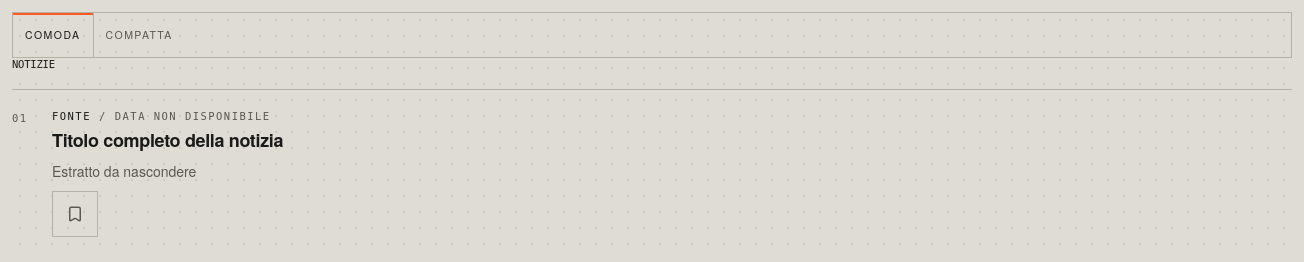
Test: applies compact mode to mounted feeds and retains full titles and save controls
Expected: the text "Estratto da nascondere" is shown, [52,161,196,181]
Click the button "Compatta".
click(139, 35)  # box [94,13,185,57]
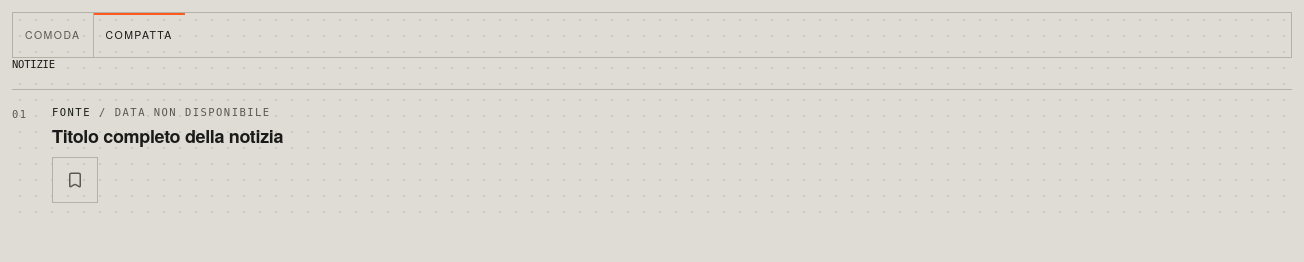
Expected: the heading "Titolo completo della notizia" is shown, [52,123,283,149]
Result: the text "Estratto da nascondere" is gone
